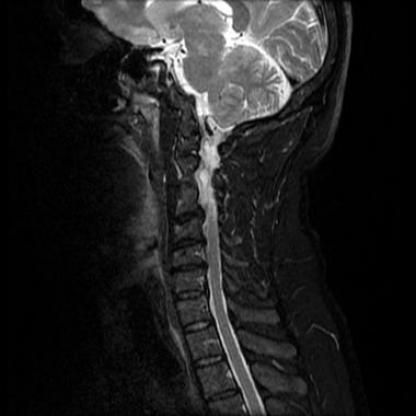Disc Protrusionrotation: (168, 260, 207, 275), (168, 236, 204, 252), (172, 287, 208, 303), (170, 208, 202, 225)
Osteophytesrotation: (168, 260, 207, 275), (172, 287, 208, 303), (168, 236, 203, 252), (170, 208, 202, 225)
